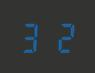three: (19, 20, 46, 53)
two: (47, 20, 74, 53)
